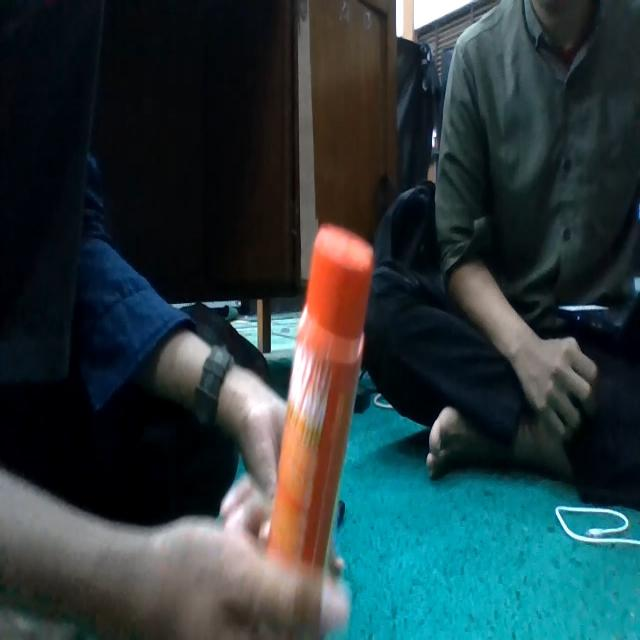Boncabe: (268, 224, 373, 574)
